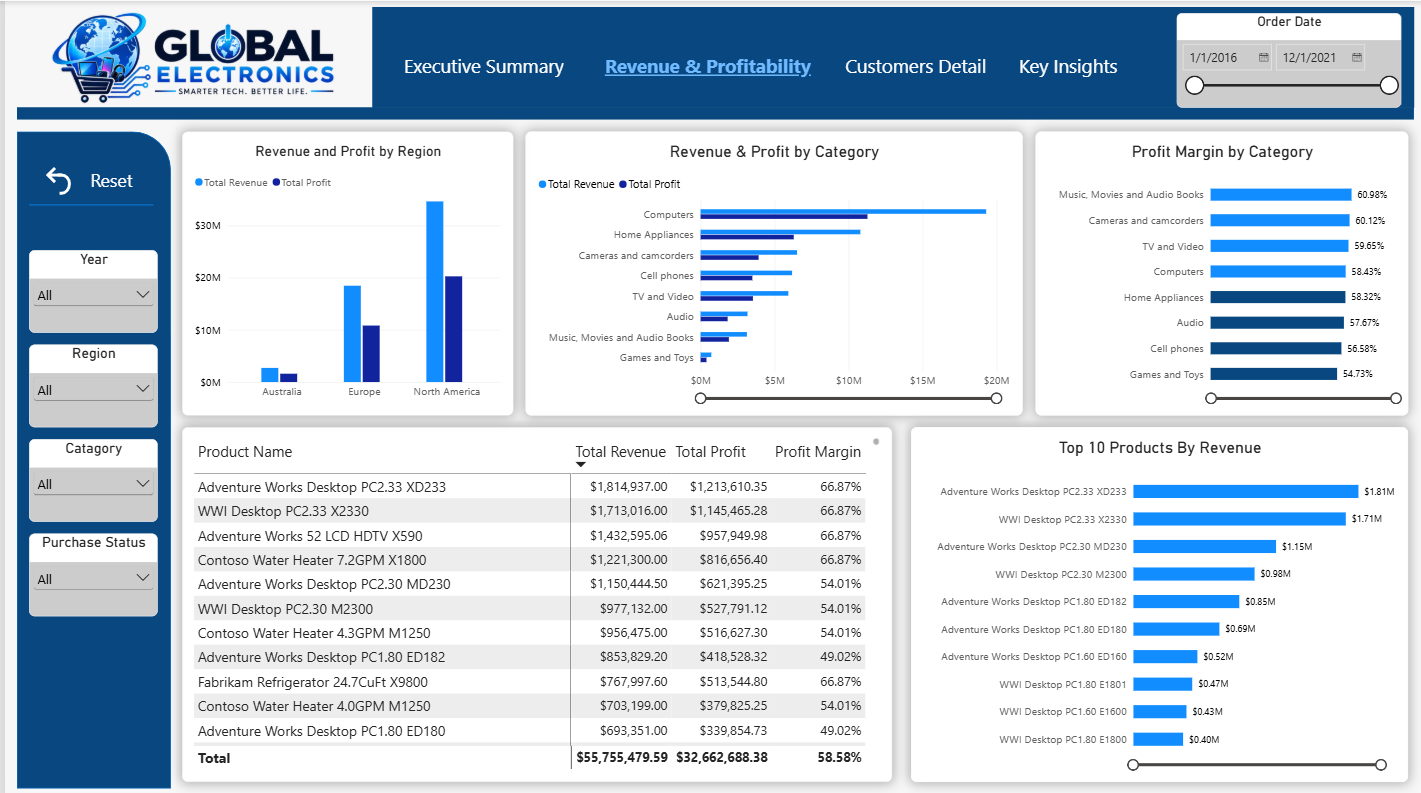

This screenshot's page, from the dashboard's own definition file:
{"tool":"powerbi","page":{"name":"Revenue & Profitability","canvas":[1920,1080],"ordinal":1},"visuals":[{"type":"actionButton","box":[528,48,272,80],"z":0,"group":"g2"},{"type":"shape","box":[16,176,208,888],"z":0},{"type":"actionButton","box":[800,48,304,80],"z":1000,"group":"g2"},{"type":"actionButton","box":[40,216,144,48],"z":1000},{"type":"actionButton","box":[1104,48,256,80],"z":2000,"group":"g2"},{"type":"shape","box":[32,264,168,24],"z":2000},{"type":"actionButton","box":[1360,48,176,80],"z":3000,"group":"g2"},{"type":"group","id":"g1","title":"Group 7","box":[32,336,160,496],"z":3000},{"type":"image","box":[16,8,480,136],"z":4000},{"type":"shape","box":[16,144,1888,16],"z":5000},{"type":"shape","box":[496,8,1408,136],"z":6000},{"type":"barChart","title":"Profit Margin by Category","fields":{"Category":["Products.Category"],"Y":["Sales.Profit Margin"]},"box":[1392,176,504,384],"z":7000},{"type":"clusteredBarChart","title":"Revenue & Profit by Category","fields":{"Category":["Products.Category"],"Y":["Sales.Total Revenue","Sales.Total Profit"]},"box":[704,176,672,384],"z":8000},{"type":"slicer","title":"Year","fields":{"Values":["calendar.Year"]},"box":[32,336,174.1,112],"z":9000,"group":"g1"},{"type":"barChart","title":"Top 10 Products By Revenue","fields":{"Category":["Products.Product Name"],"Y":["Sales.Total Revenue"]},"box":[1224,576,672,480],"z":9000},{"type":"pivotTable","fields":{"Rows":["Products.Product Name"],"Values":["Sales.Total Revenue","Sales.Total Profit","Sales.Profit Margin"]},"box":[240,576,960,480],"z":10000},{"type":"slicer","title":"Order Date","fields":{"Values":["calendar.month"]},"box":[1584,16,304,128],"z":11000},{"type":"clusteredColumnChart","title":"Revenue and Profit by Region","fields":{"Category":["Customers.Continent"],"Y":["Sales.Total Revenue","Sales.Total Profit"]},"box":[240,176,448,384],"z":12000},{"type":"slicer","title":"Region","fields":{"Values":["Customers.Continent"]},"box":[32,464,174.1,112],"z":12000,"group":"g1"},{"type":"group","id":"g2","title":"Group 8","box":[528,48,1008,80],"z":13000},{"type":"slicer","title":"Purchase Status","fields":{"Values":["Sales.Purchase Status"]},"box":[32,720,174.1,112],"z":15000,"group":"g1"},{"type":"slicer","title":"Catagory","fields":{"Values":["Products.Category"]},"box":[32,592,174.1,112],"z":23000,"group":"g1"}]}

Visuals, with their boxes in screenshot pixels (x1, y1, x2, y2), scaled from the page's 1920x1080 canvas onto the 1421x793 screenshot:
actionButton: (left=391, top=35, right=592, bottom=94)
shape: (left=12, top=129, right=166, bottom=781)
actionButton: (left=592, top=35, right=817, bottom=94)
actionButton: (left=30, top=159, right=136, bottom=194)
actionButton: (left=817, top=35, right=1007, bottom=94)
shape: (left=24, top=194, right=148, bottom=211)
actionButton: (left=1007, top=35, right=1137, bottom=94)
"Group 7" group: (left=24, top=247, right=142, bottom=611)
image: (left=12, top=6, right=367, bottom=106)
shape: (left=12, top=106, right=1409, bottom=117)
shape: (left=367, top=6, right=1409, bottom=106)
"Profit Margin by Category" barChart: (left=1030, top=129, right=1403, bottom=411)
"Revenue & Profit by Category" clusteredBarChart: (left=521, top=129, right=1018, bottom=411)
"Year" slicer: (left=24, top=247, right=153, bottom=329)
"Top 10 Products By Revenue" barChart: (left=906, top=423, right=1403, bottom=775)
pivotTable - Products.Product Name x Sales.Total Revenue: (left=178, top=423, right=888, bottom=775)
"Order Date" slicer: (left=1172, top=12, right=1397, bottom=106)
"Revenue and Profit by Region" clusteredColumnChart: (left=178, top=129, right=509, bottom=411)
"Region" slicer: (left=24, top=341, right=153, bottom=423)
"Group 8" group: (left=391, top=35, right=1137, bottom=94)
"Purchase Status" slicer: (left=24, top=529, right=153, bottom=611)
"Catagory" slicer: (left=24, top=435, right=153, bottom=517)
